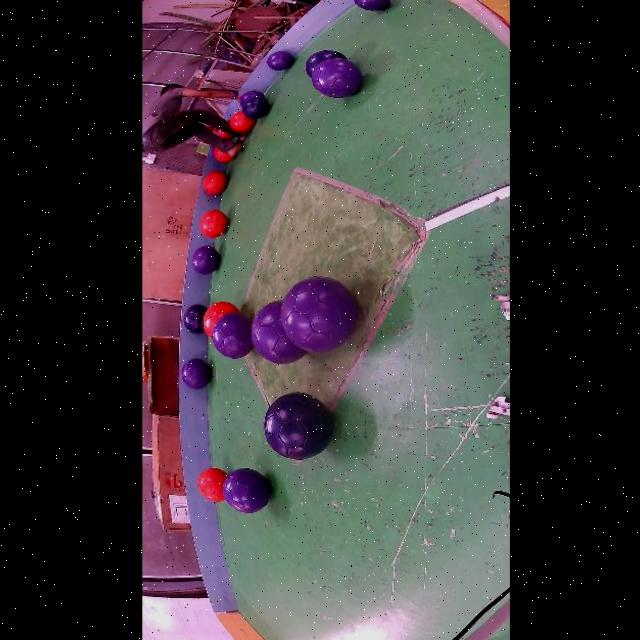B: (264, 392, 332, 460), (304, 51, 346, 77), (182, 304, 207, 334), (241, 97, 269, 120)
P: (279, 276, 356, 352), (250, 300, 306, 365), (222, 468, 269, 513), (311, 58, 361, 98), (210, 313, 253, 359), (181, 359, 210, 389), (191, 246, 219, 276), (267, 51, 293, 71), (238, 90, 264, 107), (354, 0, 389, 11)
R: (203, 302, 238, 338), (196, 468, 226, 502), (199, 210, 227, 238), (203, 171, 226, 195), (230, 111, 254, 132), (213, 148, 231, 163), (217, 130, 232, 139)
